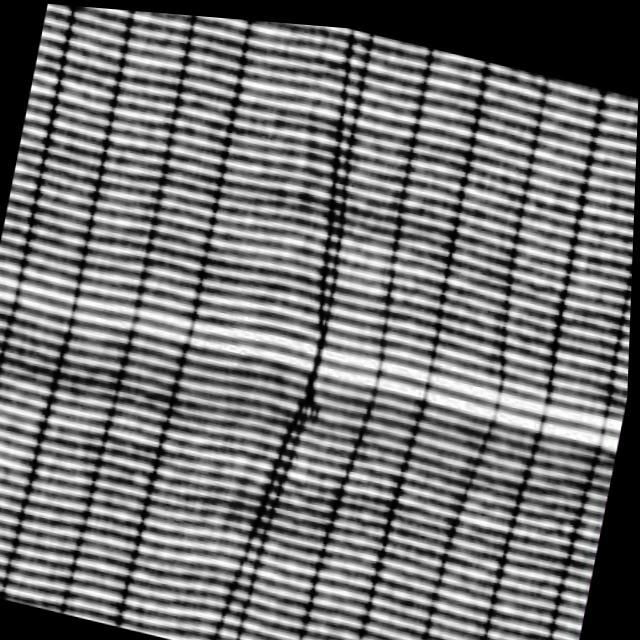Stitch: (231, 191, 385, 533)
